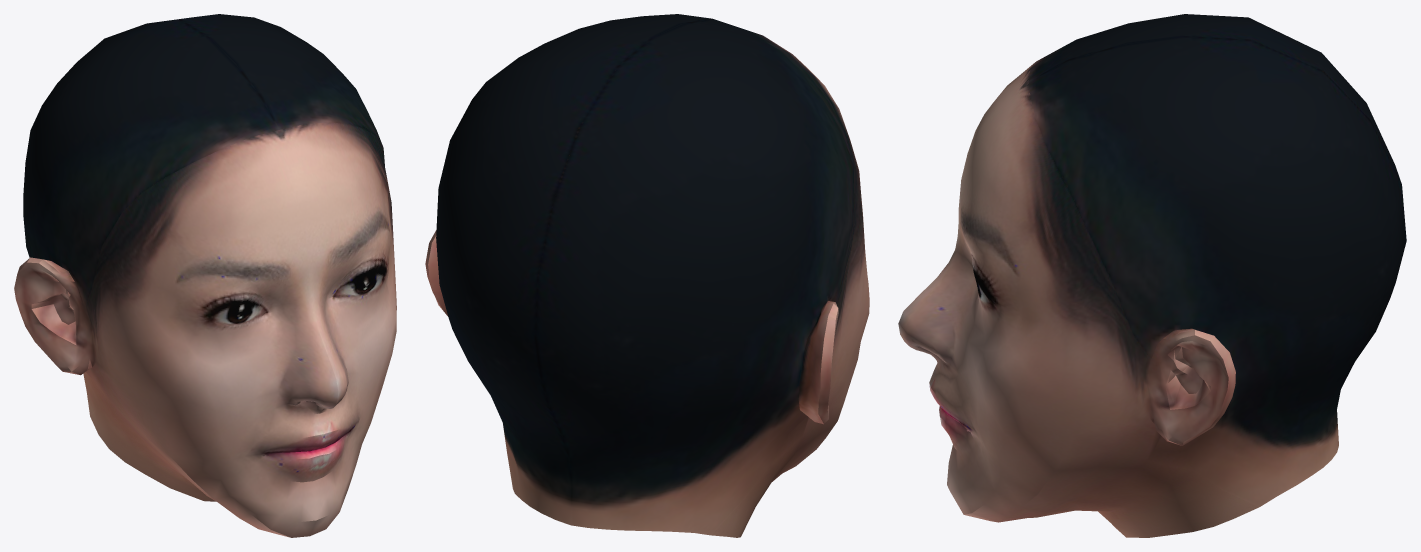
File: face_chang.obj
3 renders of one model, left to right at view 1: azimuth 30°, elevation 25°; view 2: azimuth 150°, elevation 25°; view 3: azimuth 270°, elevation 25°, orthographic. The views are drawn at different scales.
Parts seen in each view (by area): view 1: face_chang:face_normal face_chang:polySurface1; view 2: face_chang:face_normal face_chang:polySurface1; view 3: face_chang:face_normal face_chang:polySurface1.
Part boxes in pixels (bbox=[...]): face_chang:face_normal face_chang:polySurface1: bbox=[14, 14, 396, 537]; face_chang:face_normal face_chang:polySurface1: bbox=[425, 14, 869, 537]; face_chang:face_normal face_chang:polySurface1: bbox=[898, 14, 1406, 537].
Size of the model in its own units: 18.77 by 22.64 by 21.27.
